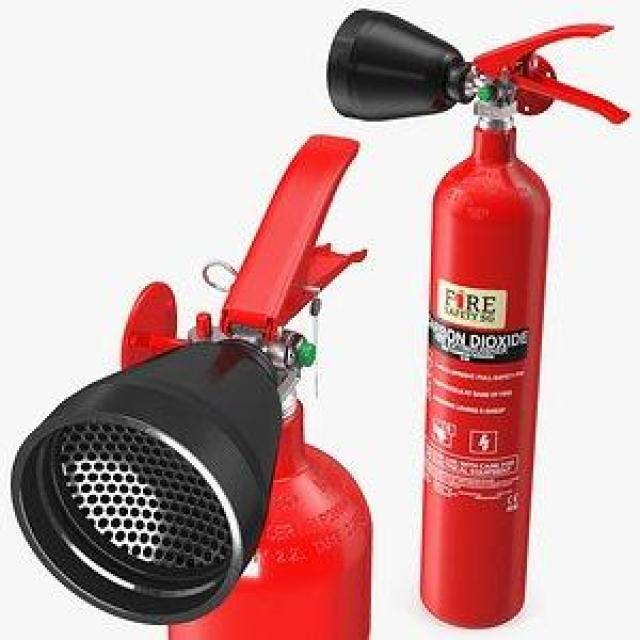fire_extinguisher: (317, 3, 630, 628), (4, 126, 380, 638)
